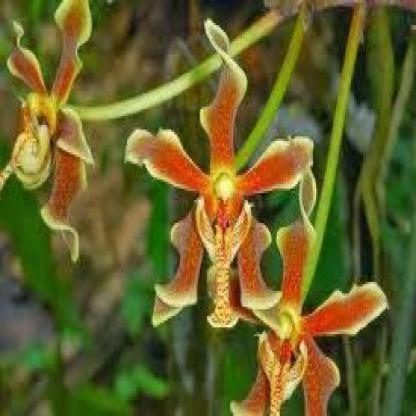ANGGREK: (12, 8, 388, 396)
